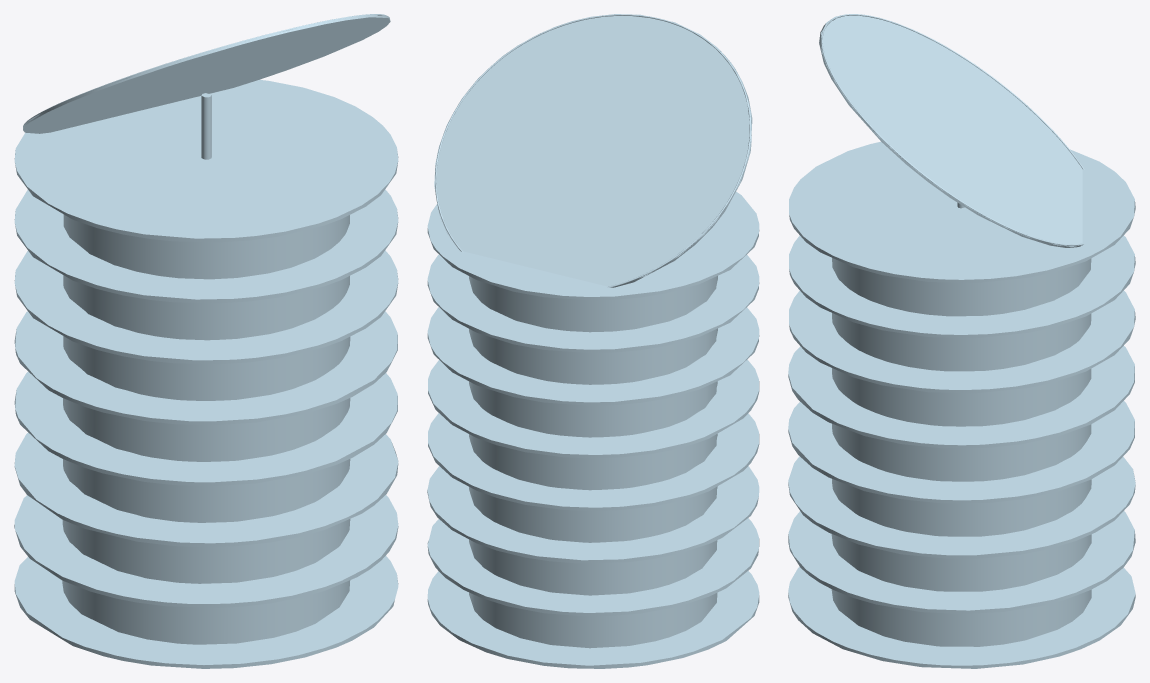
File: tower_lod_lod2.glb
The picture shows the model from 3 angles, left to right: view 1: azimuth 30°, elevation 25°; view 2: azimuth 150°, elevation 25°; view 3: azimuth 270°, elevation 25°; orthographic projection. The views are drawn at different scales.
Parts seen in each view (by area): view 1: LOD slab (×8), LOD facade, Solar disc, LOD column, Solar rim; view 2: LOD slab (×8), Solar disc, LOD facade, Solar rim; view 3: LOD slab (×8), LOD facade, Solar disc, Solar rim.
Boxes of the visible parts, x1=… form: LOD slab (×8): x1=14, y1=79, x2=398, y2=668; LOD facade: x1=62, y1=214, x2=350, y2=644; Solar disc: x1=23, y1=14, x2=390, y2=133; LOD column: x1=201, y1=93, x2=211, y2=159; Solar rim: x1=24, y1=14, x2=385, y2=124; LOD slab (×8): x1=427, y1=191, x2=759, y2=668; Solar disc: x1=434, y1=14, x2=752, y2=287; LOD facade: x1=469, y1=276, x2=717, y2=648; Solar rim: x1=435, y1=14, x2=751, y2=287; LOD slab (×8): x1=788, y1=141, x2=1135, y2=668; LOD facade: x1=831, y1=258, x2=1091, y2=646; Solar disc: x1=819, y1=14, x2=1082, y2=247; Solar rim: x1=821, y1=14, x2=1084, y2=245.
Size of the model in its own units: 19.99 by 35.5 by 20.
